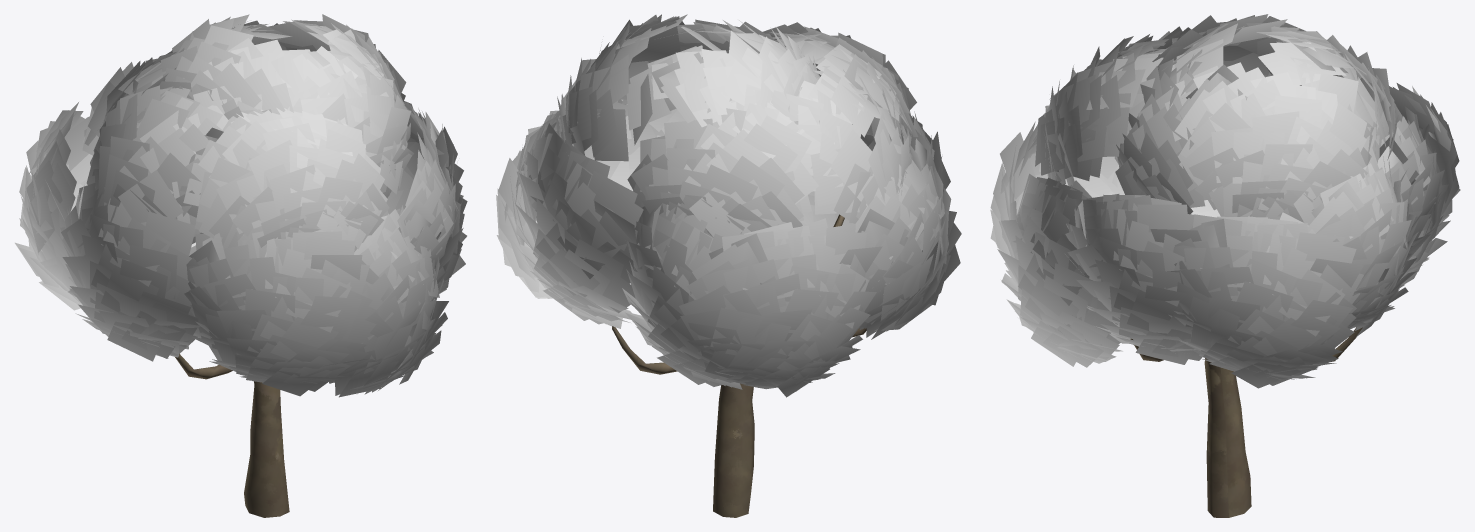
File: Standar Tree Small_LOD_1.fbx
3 views of the same model, side by side, from view 1: azimuth 30°, elevation 25°; view 2: azimuth 150°, elevation 25°; view 3: azimuth 270°, elevation 25° (orthographic). The views are drawn at different scales.
Visible parts, largest first — view 1: Top_Tree_Small_LOD_1, Standar_Trunk_Small_LOD_1; view 2: Top_Tree_Small_LOD_1, Standar_Trunk_Small_LOD_1; view 3: Top_Tree_Small_LOD_1, Standar_Trunk_Small_LOD_1.
Boxes of the visible parts, x1=… form: Top_Tree_Small_LOD_1: x1=15, y1=14, x2=467, y2=397; Standar_Trunk_Small_LOD_1: x1=175, y1=354, x2=289, y2=517; Top_Tree_Small_LOD_1: x1=496, y1=14, x2=961, y2=397; Standar_Trunk_Small_LOD_1: x1=612, y1=214, x2=866, y2=517; Top_Tree_Small_LOD_1: x1=990, y1=14, x2=1460, y2=388; Standar_Trunk_Small_LOD_1: x1=1130, y1=327, x2=1362, y2=517.
Bounding box in the file's own units: 1635 × 1874 × 1667.
